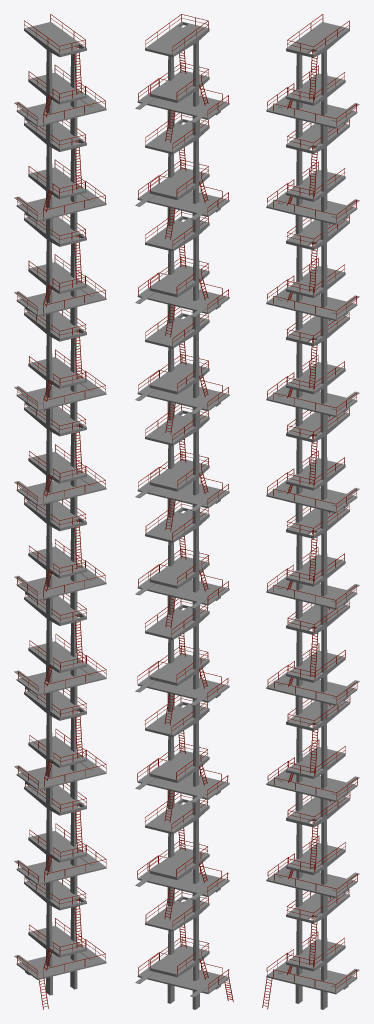
The model's file is luftbad.glb.
The picture shows the model from 3 angles, left to right: view 1: azimuth 30°, elevation 25°; view 2: azimuth 150°, elevation 25°; view 3: azimuth 330°, elevation 25°; orthographic projection. The views are drawn at different scales.
Parts seen in each view (by area): view 1: turm_beton_010, turm_beton_002, turm_beton_003, turm_beton_007, turm_beton_005, turm_beton_006, turm_beton_004, turm_beton_008, turm_beton_009, turm_beton_001, turm_gelaender_001, turm_gelaender_010 (+8 smaller); view 2: turm_beton_010, turm_beton_002, turm_beton_004, turm_beton_008, turm_beton_009, turm_beton_003, turm_beton_006, turm_beton_005, turm_beton_007, turm_beton_001, turm_gelaender_010, turm_gelaender_009 (+8 smaller); view 3: turm_beton_010, turm_beton_009, turm_beton_002, turm_beton_006, turm_beton_008, turm_beton_007, turm_beton_001, turm_beton_004, turm_beton_003, turm_beton_005, turm_gelaender_001, turm_gelaender_010 (+8 smaller).
Boxes of the visible parts, box(x1,y1,x2,y2) form: turm_beton_010: box(14, 22, 106, 142); turm_beton_002: box(14, 785, 106, 900); turm_beton_003: box(14, 690, 106, 805); turm_beton_007: box(14, 311, 106, 426); turm_beton_005: box(14, 501, 106, 616); turm_beton_006: box(14, 406, 106, 521); turm_beton_004: box(14, 596, 106, 710); turm_beton_008: box(14, 217, 106, 331); turm_beton_009: box(14, 122, 106, 236); turm_beton_001: box(14, 880, 106, 995); turm_gelaender_001: box(17, 876, 105, 1009); turm_gelaender_010: box(17, 14, 105, 126); turm_beton_010: box(135, 21, 229, 135); turm_beton_002: box(135, 798, 229, 912); turm_beton_004: box(135, 604, 229, 718); turm_beton_008: box(135, 216, 229, 329); turm_beton_009: box(135, 119, 229, 232); turm_beton_003: box(135, 701, 229, 815); turm_beton_006: box(135, 410, 229, 524); turm_beton_005: box(135, 507, 229, 621); turm_beton_007: box(135, 313, 229, 426); turm_beton_001: box(135, 896, 229, 1009); turm_gelaender_010: box(138, 14, 228, 142); turm_gelaender_009: box(138, 113, 228, 239); turm_beton_010: box(266, 22, 359, 144); turm_beton_009: box(266, 123, 359, 240); turm_beton_002: box(266, 797, 359, 913); turm_beton_006: box(266, 412, 359, 528); turm_beton_008: box(266, 220, 359, 336); turm_beton_007: box(266, 316, 359, 432); turm_beton_001: box(266, 893, 359, 1009); turm_beton_004: box(266, 604, 359, 721); turm_beton_003: box(266, 700, 359, 817); turm_beton_005: box(266, 508, 359, 624); turm_gelaender_001: box(262, 889, 356, 1009); turm_gelaender_010: box(267, 14, 356, 128).
Size of the model in its own units: 7.66 by 101 by 7.55.
